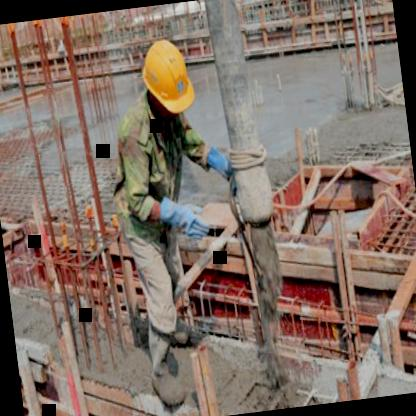helmet: (130, 23, 204, 144)
